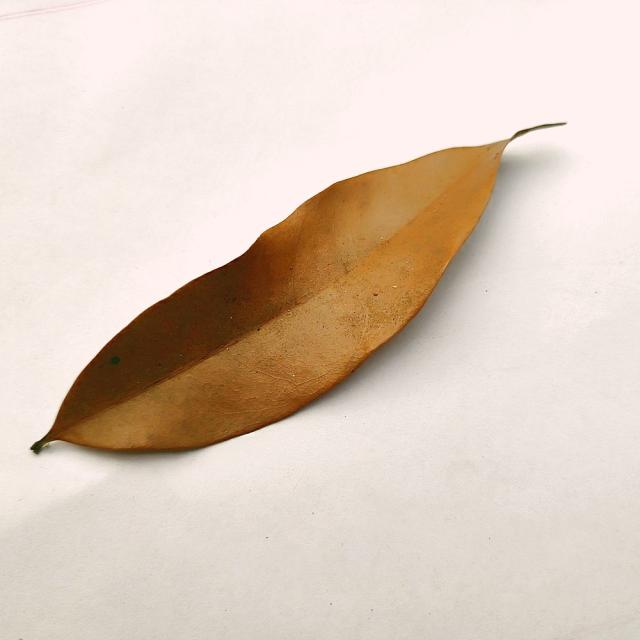Dry_Leaf-Lychee: (36, 128, 554, 456)
